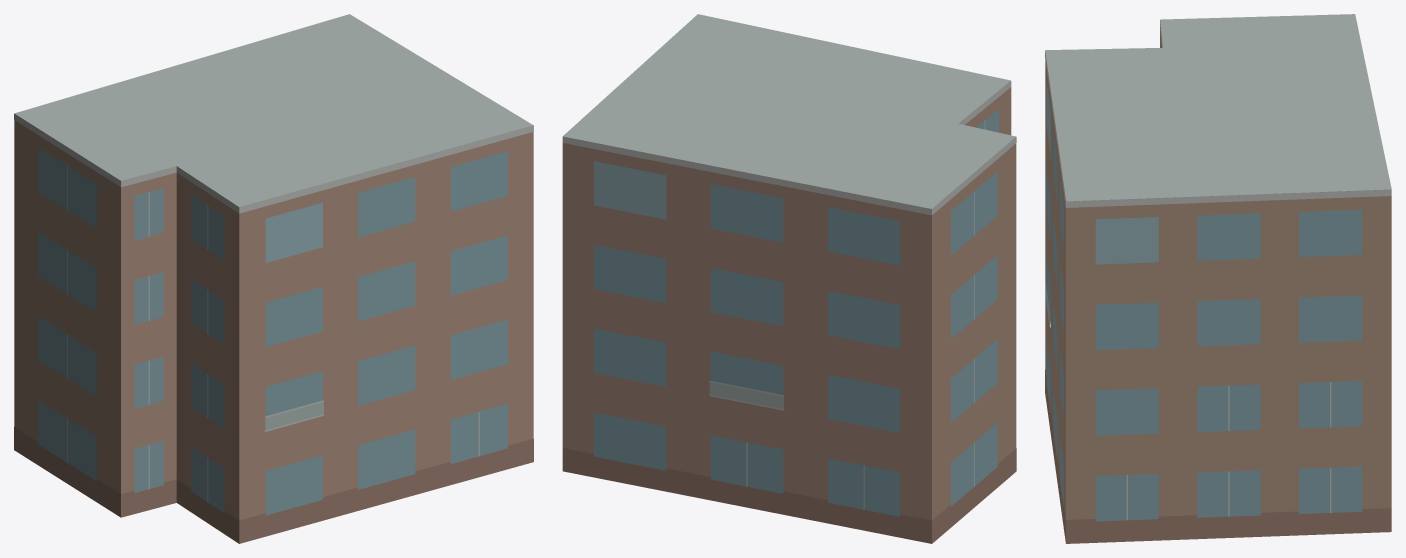
File: survey-upis-32994088.glb
3 views of the same model, side by side, from view 1: azimuth 30°, elevation 25°; view 2: azimuth 150°, elevation 25°; view 3: azimuth 270°, elevation 25° (orthographic). The views are drawn at different scales.
Parts seen in each view (by area): view 1: survey-upis-32994088.tmp; view 2: survey-upis-32994088.tmp; view 3: survey-upis-32994088.tmp.
Part boxes in pixels (x1,y1,x2,y2): survey-upis-32994088.tmp: (14, 14, 533, 543); survey-upis-32994088.tmp: (562, 14, 1016, 543); survey-upis-32994088.tmp: (1045, 14, 1391, 543).
Bounding box in the file's own units: 15.03 × 12.8 × 11.75.
